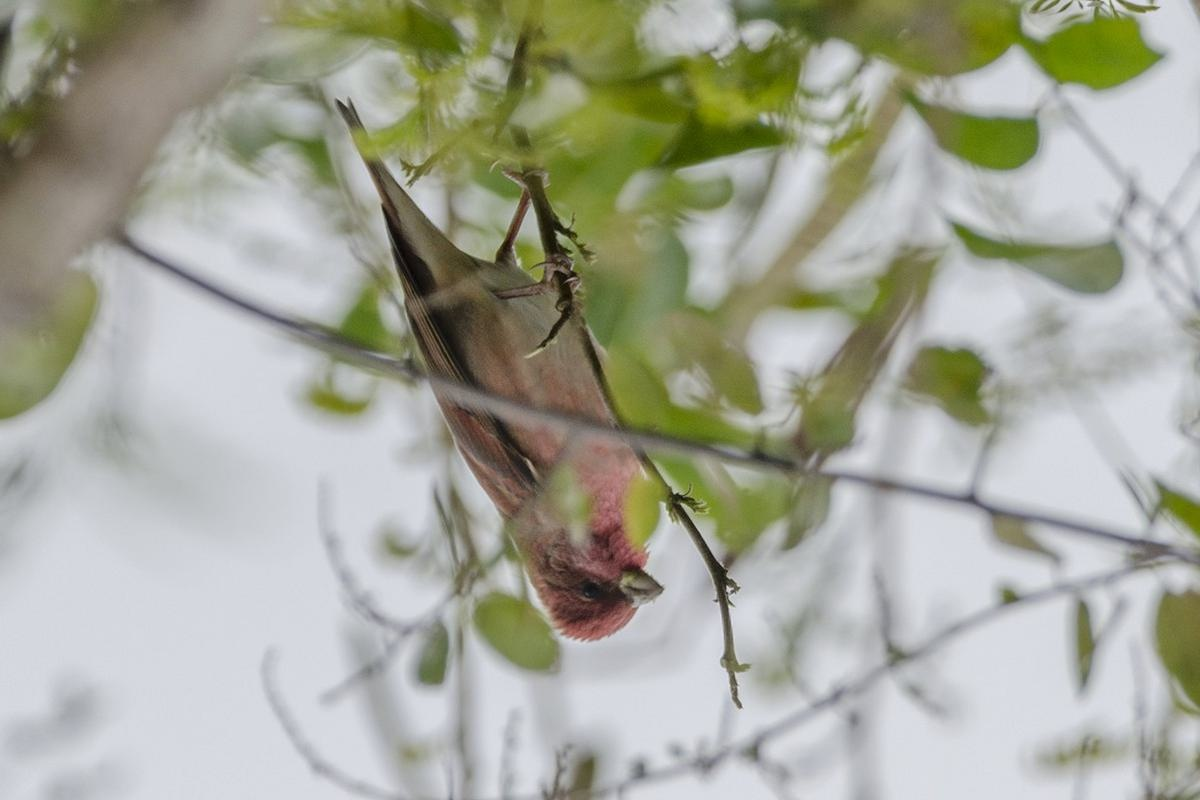rosefinch: (364, 137, 687, 657)
